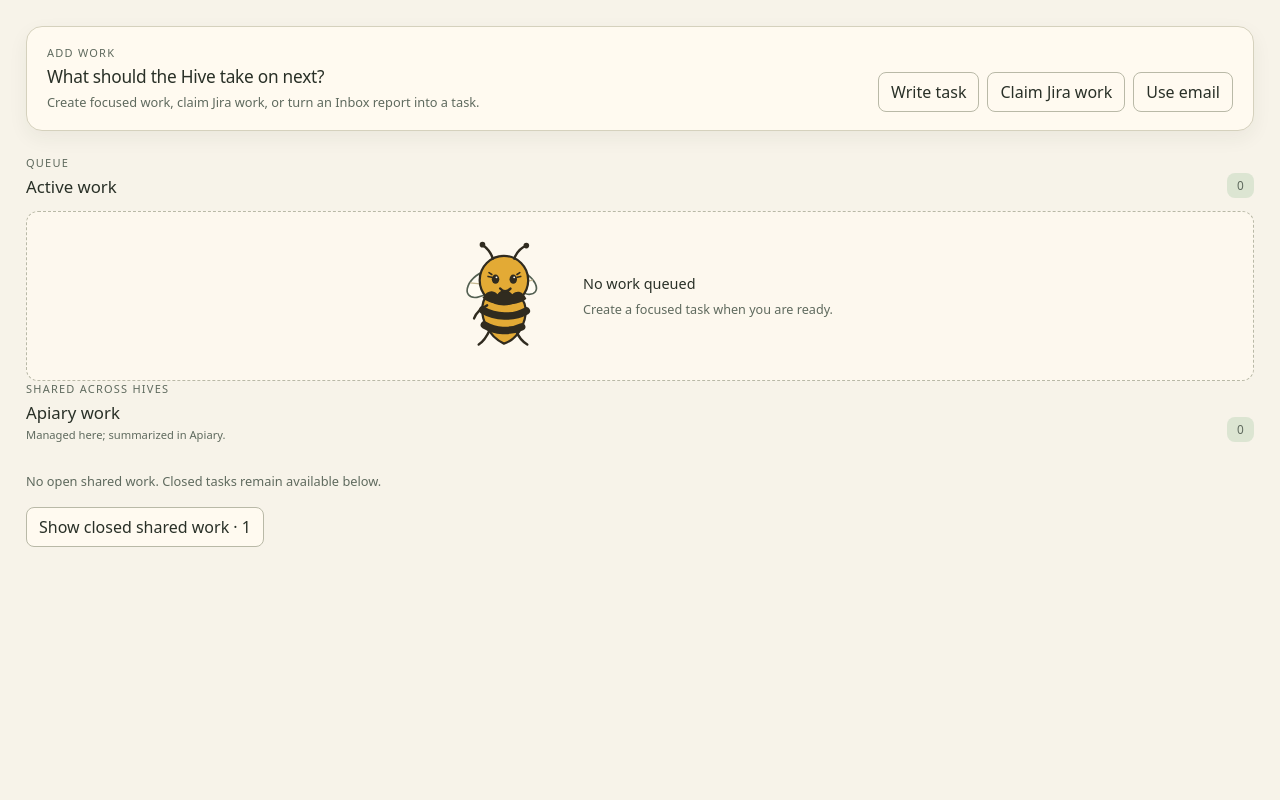
Test: owned completed Apiary task has an honest next step without repository workers
Click the button "Show closed shared work · 1".
click(145, 527)  # box [26,507,264,547]
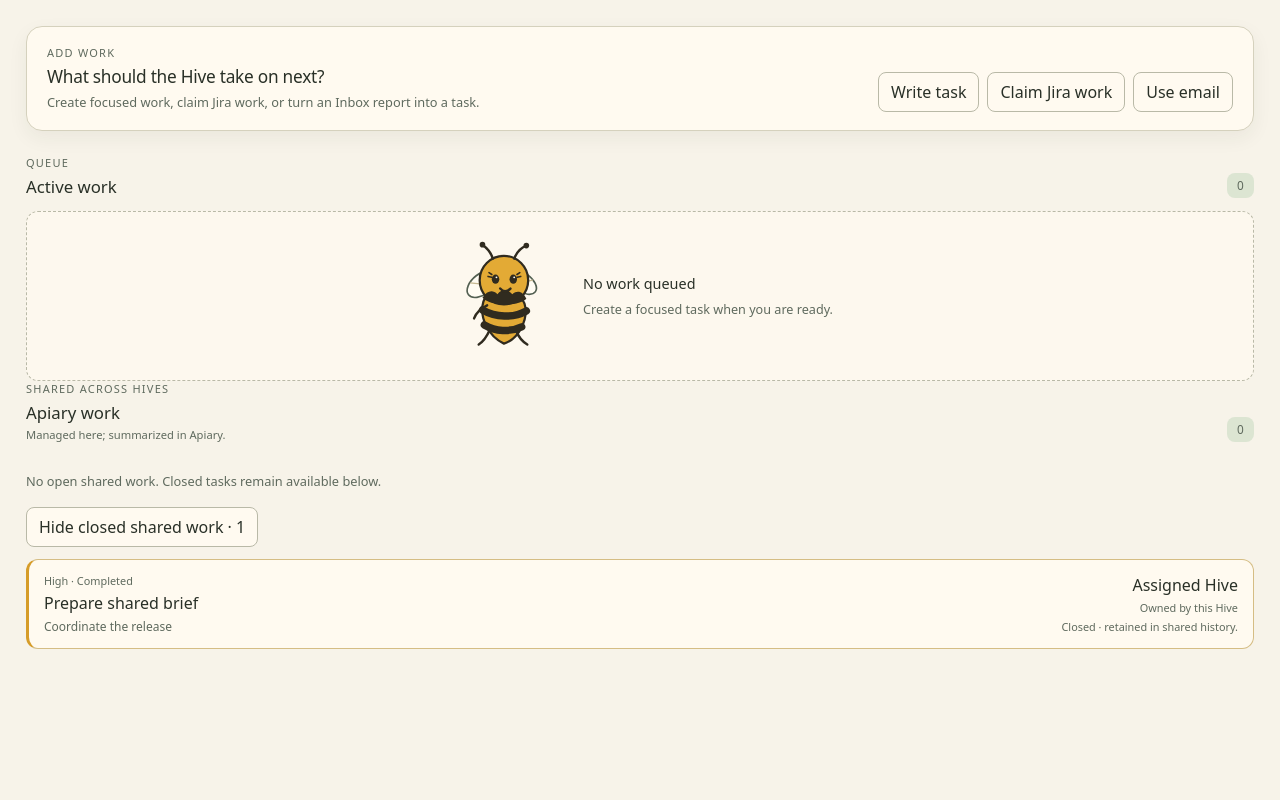
Expected: the text named "Open shared tasks" reads "0", [1237,421,1244,437]
Expected: the text "Prepare shared brief" is shown, [44,592,198,614]
Expected: the text "Closed · retained in shared history." is shown, [1062,619,1238,634]
